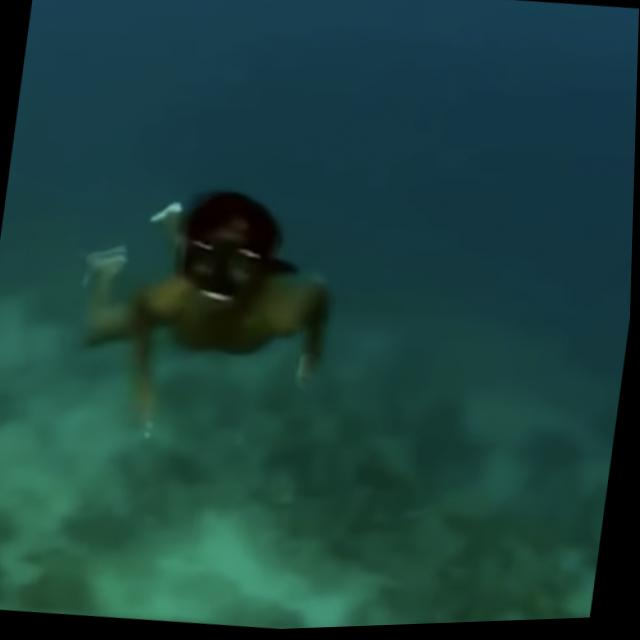human: (53, 157, 365, 476)
